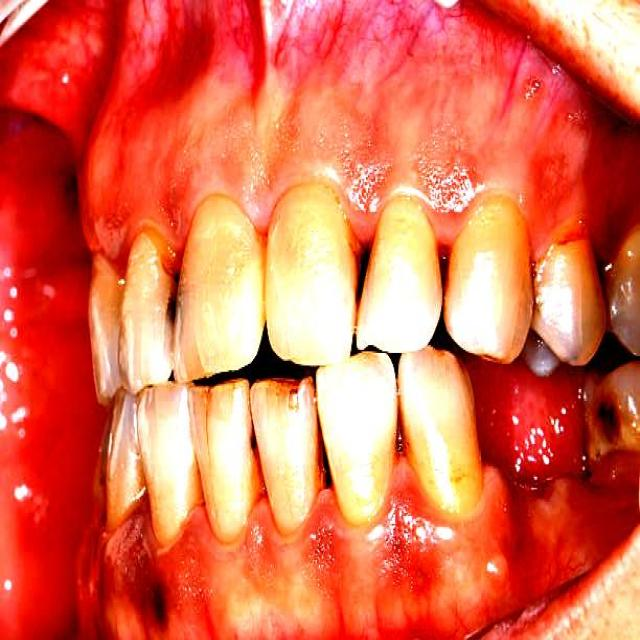caries: (151, 239, 191, 343)
